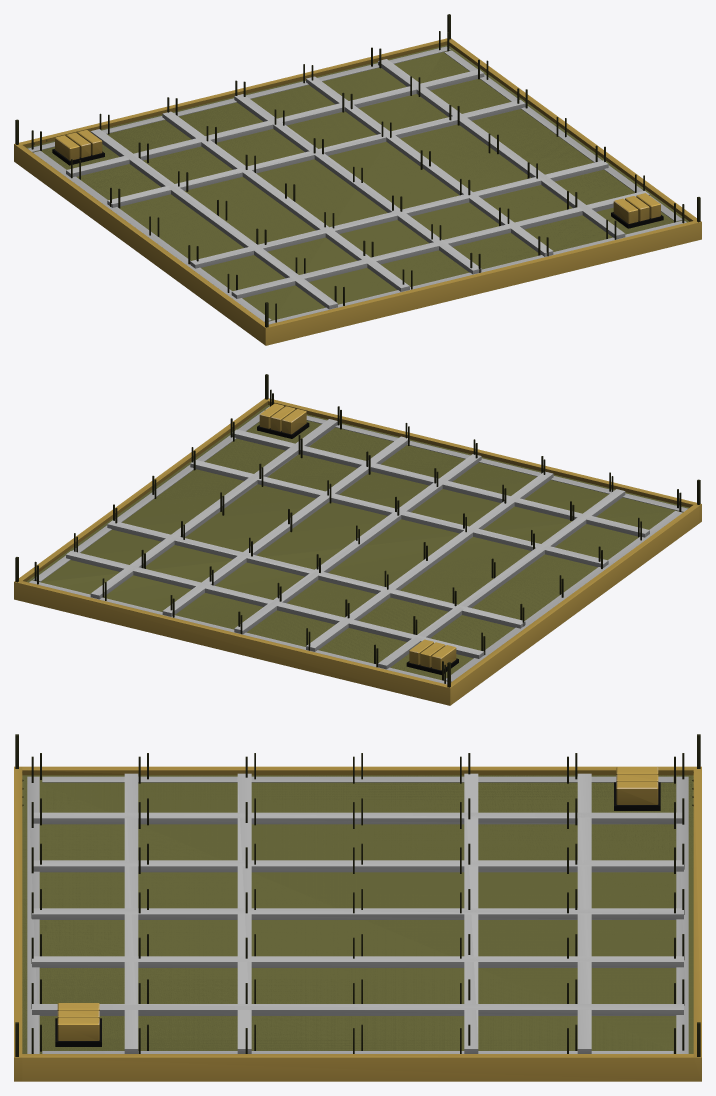
The model's file is meridian_construction_center_foundation.glb.
The picture shows the model from 3 angles, top to bottom: view 1: azimuth 30°, elevation 25°; view 2: azimuth 150°, elevation 25°; view 3: azimuth 270°, elevation 25°; orthographic projection. The views are drawn at different scales.
Parts seen in each view (by area): view 1: body (×3); view 2: body (×3); view 3: body (×3).
Boxes of the visible parts, box(x1,y1,x2,y2) form: body (×3): box(14, 14, 701, 345); body (×3): box(14, 374, 701, 705); body (×3): box(14, 734, 701, 1081).
Size of the model in its own units: 14.78 by 1.35 by 14.78.
